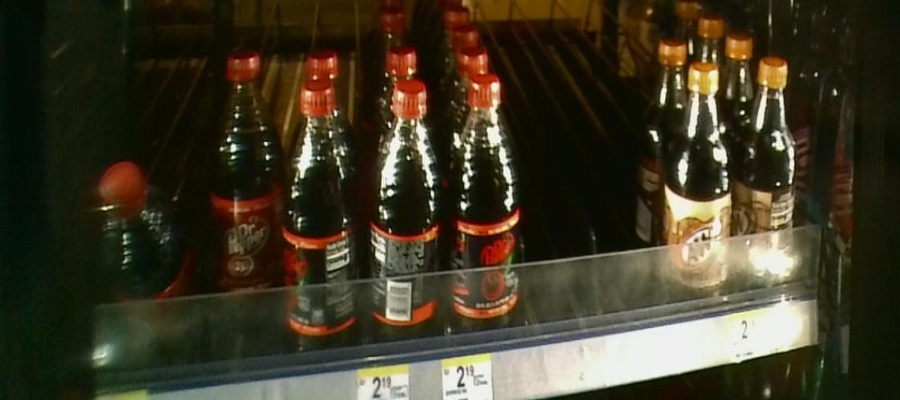bottle: (208, 47, 283, 356), (365, 81, 444, 355), (284, 73, 358, 355), (449, 77, 520, 347), (665, 50, 734, 326), (94, 149, 195, 320), (739, 52, 798, 307)
